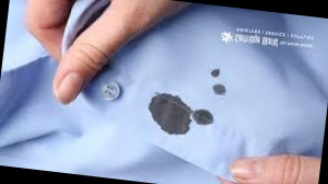ink: (147, 93, 193, 136), (194, 110, 214, 125), (213, 85, 226, 96), (211, 69, 219, 76)
